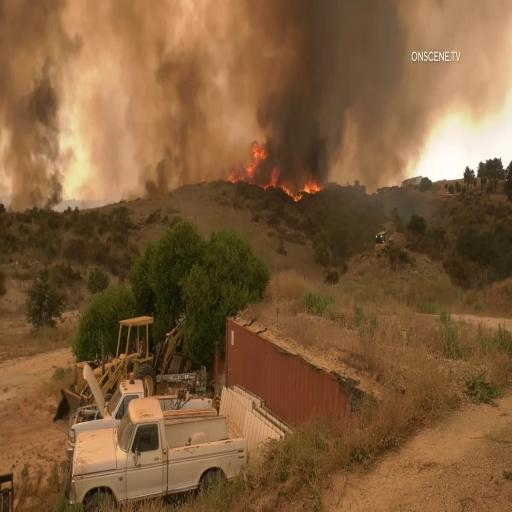fire: (248, 146, 270, 189), (303, 178, 324, 198)
smoke: (268, 4, 326, 169), (8, 40, 63, 180)
